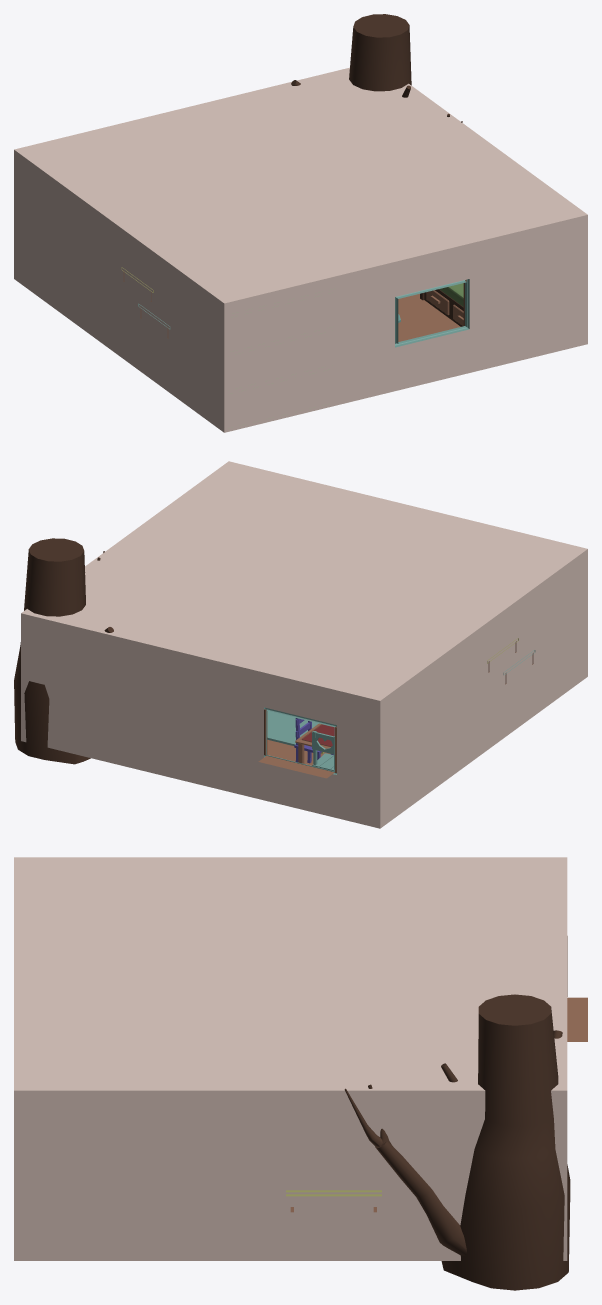
File: Room.fbx
3 renders of one model, top to bottom at view 1: azimuth 30°, elevation 25°; view 2: azimuth 150°, elevation 25°; view 3: azimuth 270°, elevation 25°, orthographic. The views are drawn at different scales.
Visible parts, largest first — view 1: polySurface62, polySurface63; view 2: polySurface62, polySurface63, Cyan_heart_chair, Table; view 3: polySurface62, polySurface63.
Boxes of the visible parts, x1,y1,x2,y2 form: polySurface62: (14, 67, 587, 432); polySurface63: (121, 14, 466, 338); polySurface62: (21, 461, 587, 828); polySurface63: (14, 538, 535, 778); Cyan_heart_chair: (312, 731, 334, 771); Table: (295, 723, 334, 763); polySurface62: (14, 857, 567, 1260); polySurface63: (286, 936, 587, 1290).
Size of the model in its own units: 5.3 by 2.63 by 5.2.
